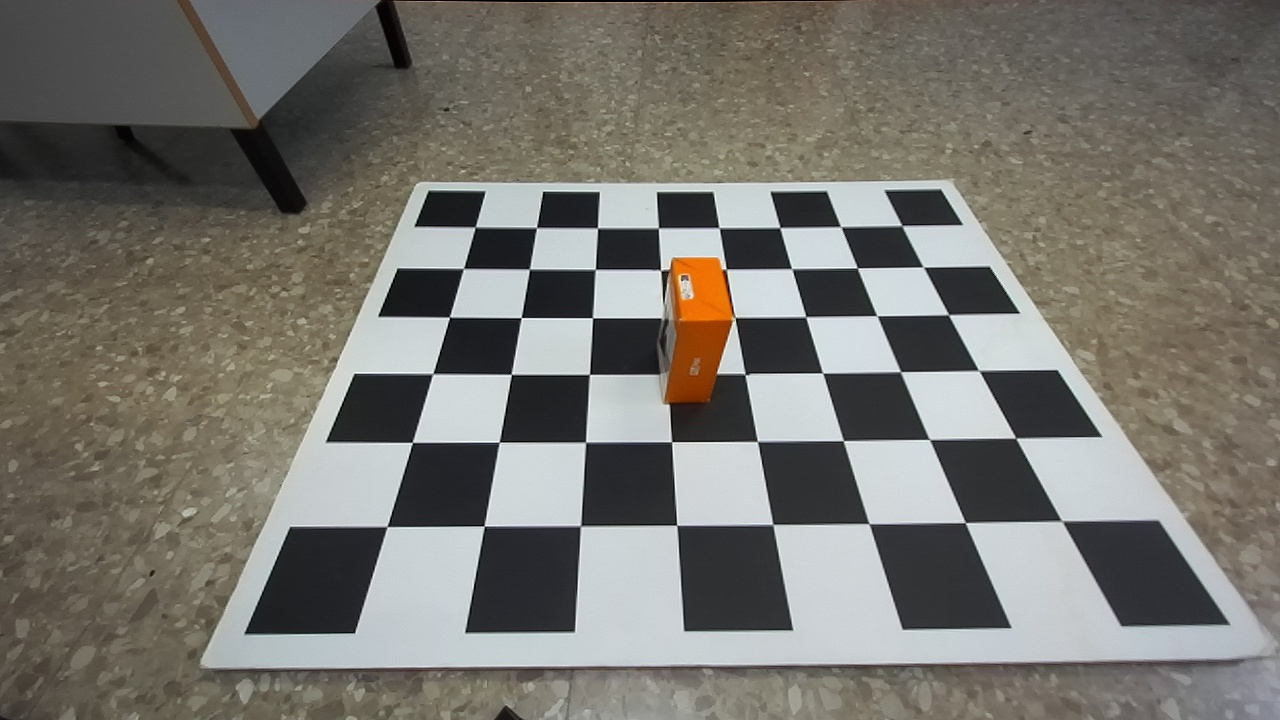caja_pcb: (657, 257, 732, 401)
